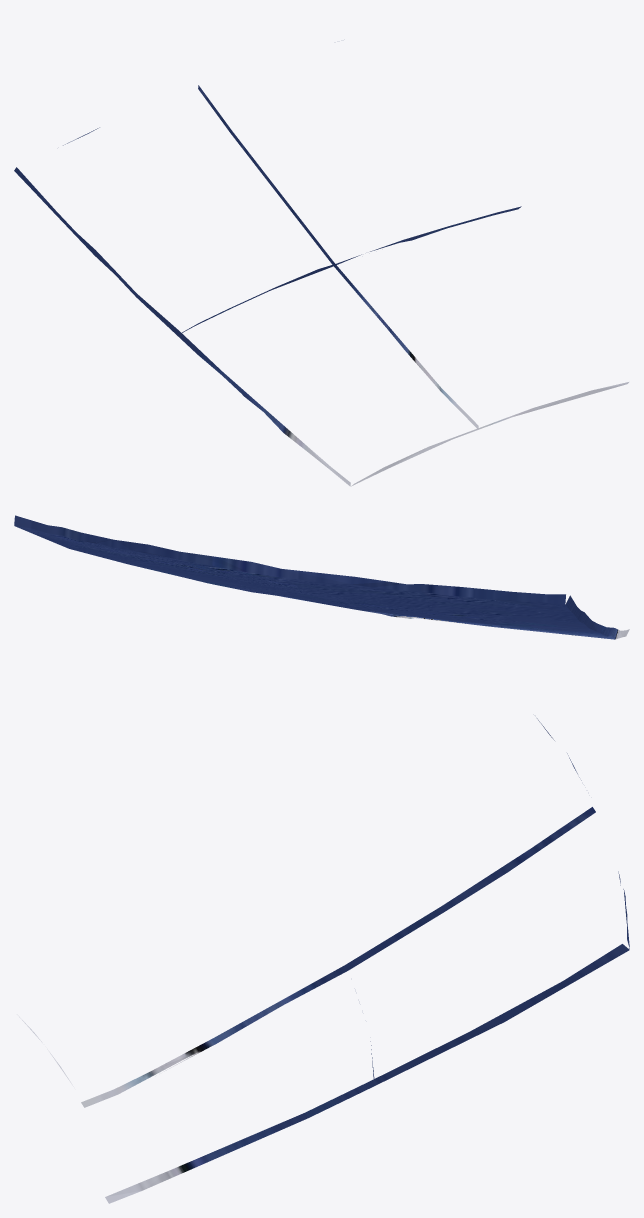
The picture shows the model from 3 angles, top to bottom: view 1: azimuth 30°, elevation 25°; view 2: azimuth 150°, elevation 25°; view 3: azimuth 270°, elevation 25°; orthographic projection. The views are drawn at different scales.
Size of the model in its own units: 1374666 by 620926 by 1306240.
1 material, 1 textured.
